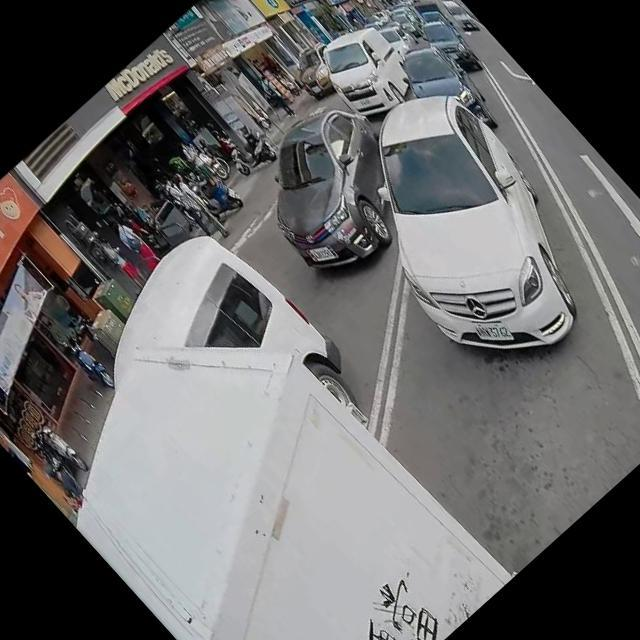person: (166, 170, 233, 242), (154, 172, 216, 240), (90, 227, 150, 290), (104, 210, 162, 272), (174, 136, 226, 190), (254, 75, 296, 120), (108, 197, 150, 242)
